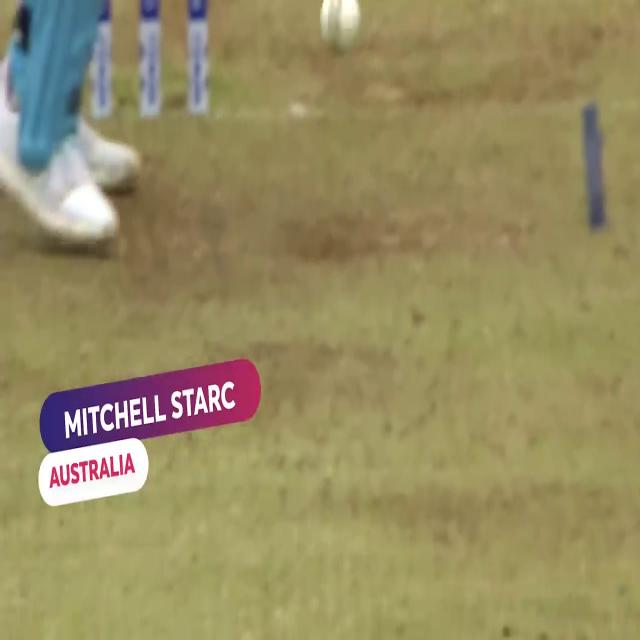ball: (317, 1, 363, 53)
